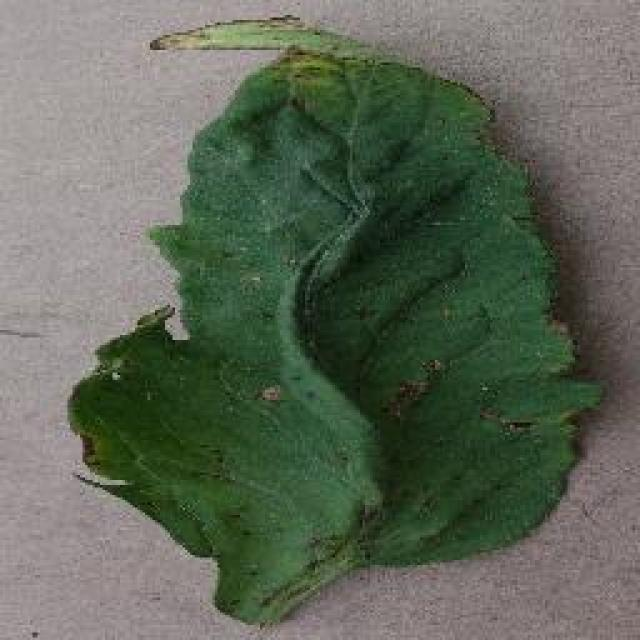Tomato___Bacterial_spot: (61, 11, 608, 632)
